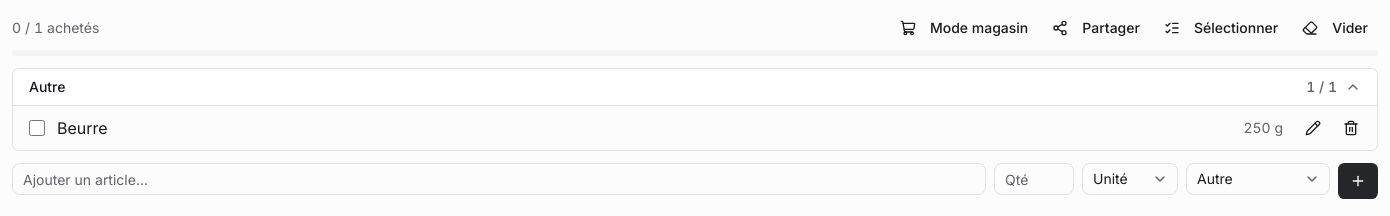
Test: ShoppingListView › coche l'article avant la réponse du serveur
This screenshot has width=1390, height=216.
Click the checkbox. click: point(37, 128)
box: [29,120,45,136]
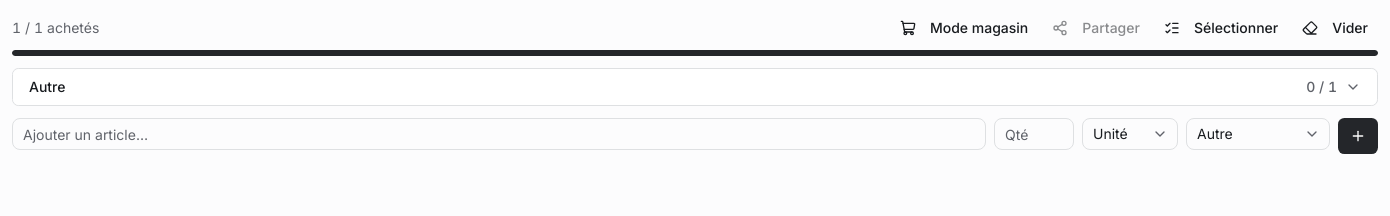
Result: the element showing "1 / 1 achetés" is shown at [12,18,99,38]
